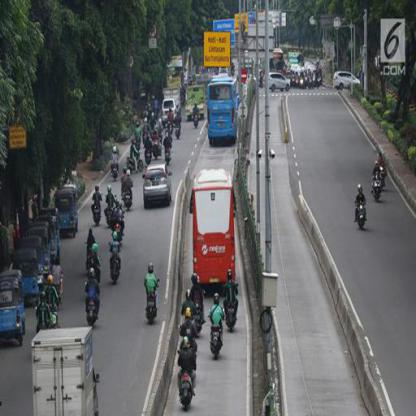bus: (190, 168, 237, 286), (206, 74, 239, 145)
car: (141, 161, 175, 206), (331, 67, 362, 94), (262, 66, 292, 92)
motorbike: (222, 294, 244, 333), (177, 369, 197, 409), (206, 322, 224, 359), (83, 294, 102, 325), (144, 288, 160, 324), (354, 197, 370, 228), (106, 254, 124, 281), (371, 175, 385, 199)
